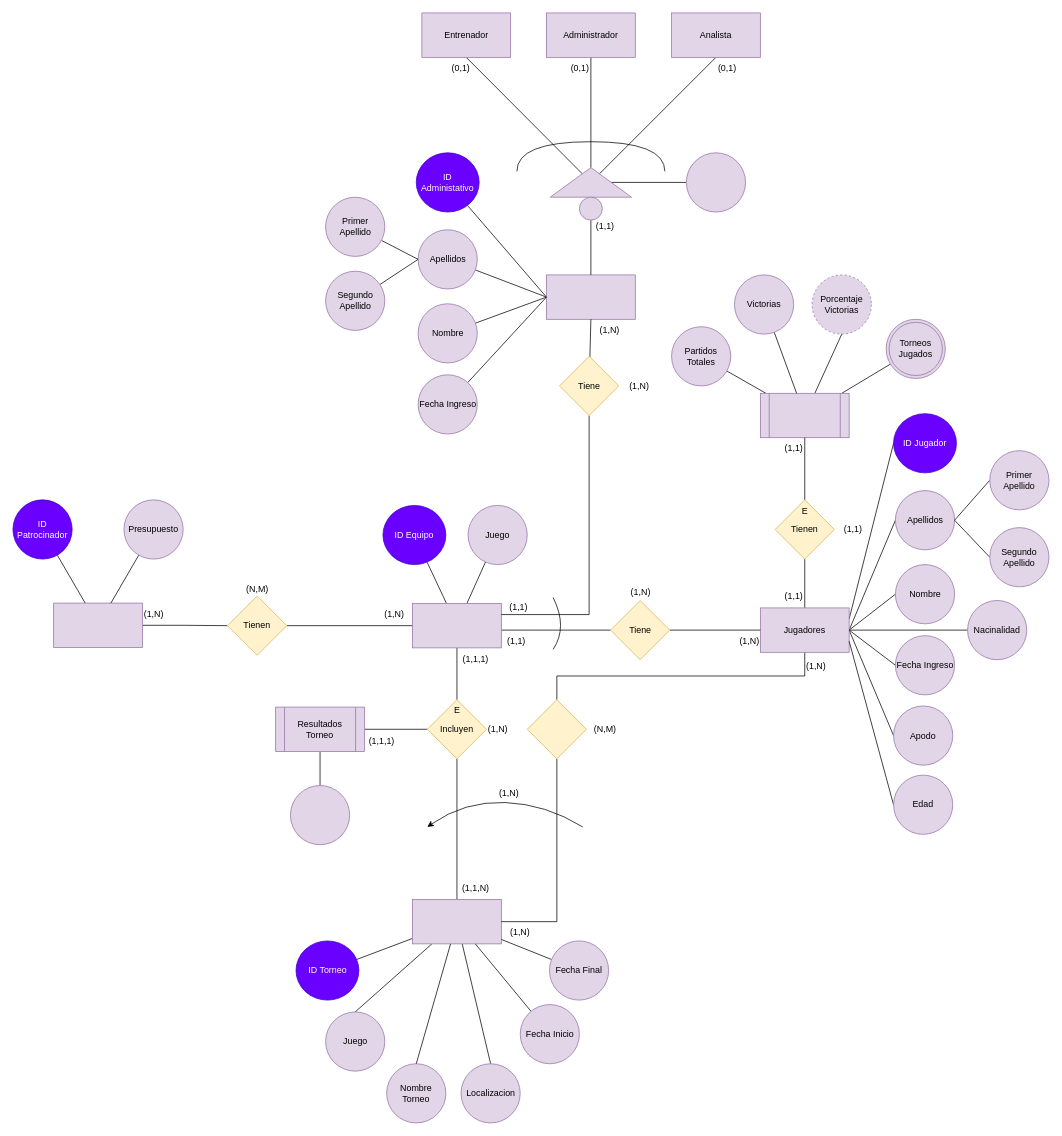
The diagram is 1062 pixels wide and 1136 high, and some of its shapes have lost their labels. Each missing label, with the centre of its shape:
Administrativos: the point at 590,296
Clasificación: the point at 320,815
Equipos: the point at 456,625
Estadísticas Jugadores: the point at 804,415
Patrocinadores: the point at 97,625
Practicipan: the point at 556,729
Tipo: the point at 716,182
Torneos: the point at 456,921
